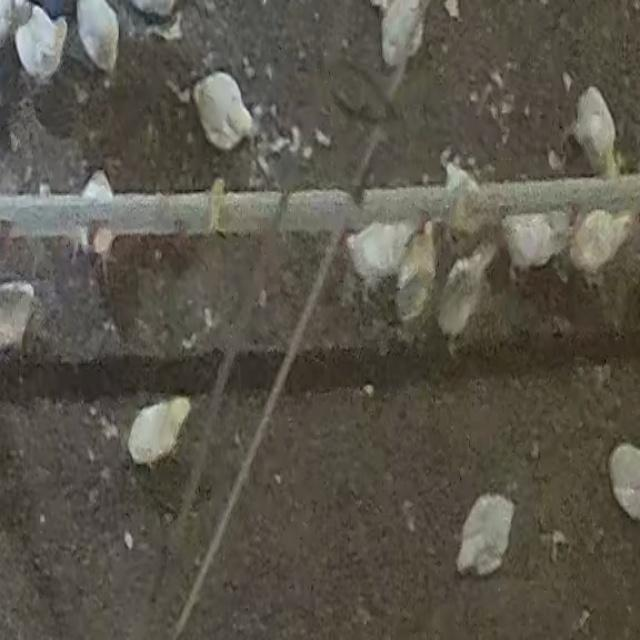chicken: (434, 242, 494, 352), (456, 492, 517, 581), (565, 85, 622, 180), (188, 71, 255, 151), (124, 396, 192, 469), (570, 209, 636, 284), (76, 170, 121, 271), (348, 222, 403, 302), (504, 216, 569, 280), (70, 0, 123, 74), (397, 224, 437, 321), (381, 0, 430, 71), (17, 9, 65, 81), (0, 280, 37, 354), (608, 442, 640, 524)
